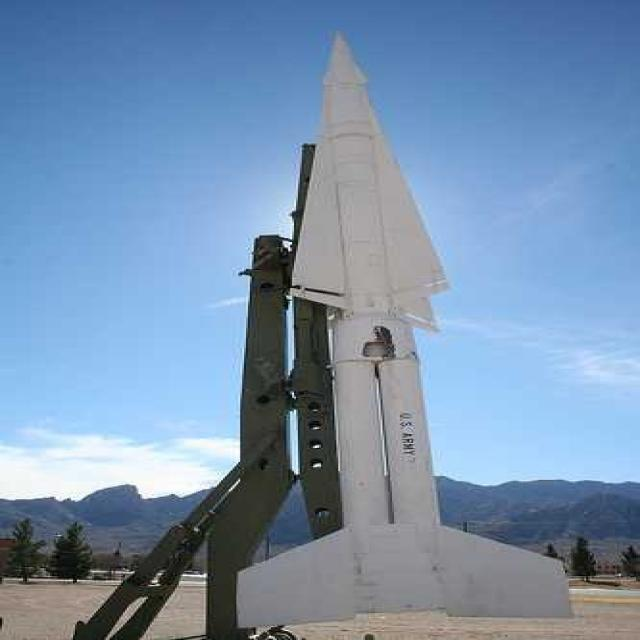missile: (236, 31, 556, 629)
